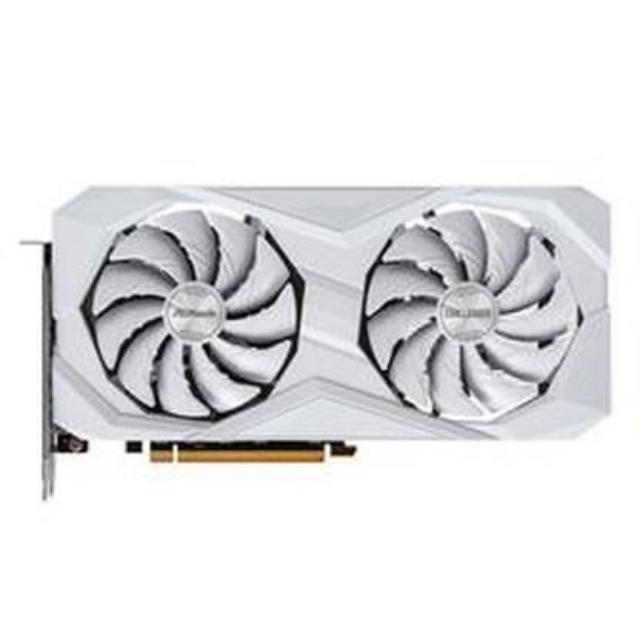GPU: (39, 178, 622, 470)
